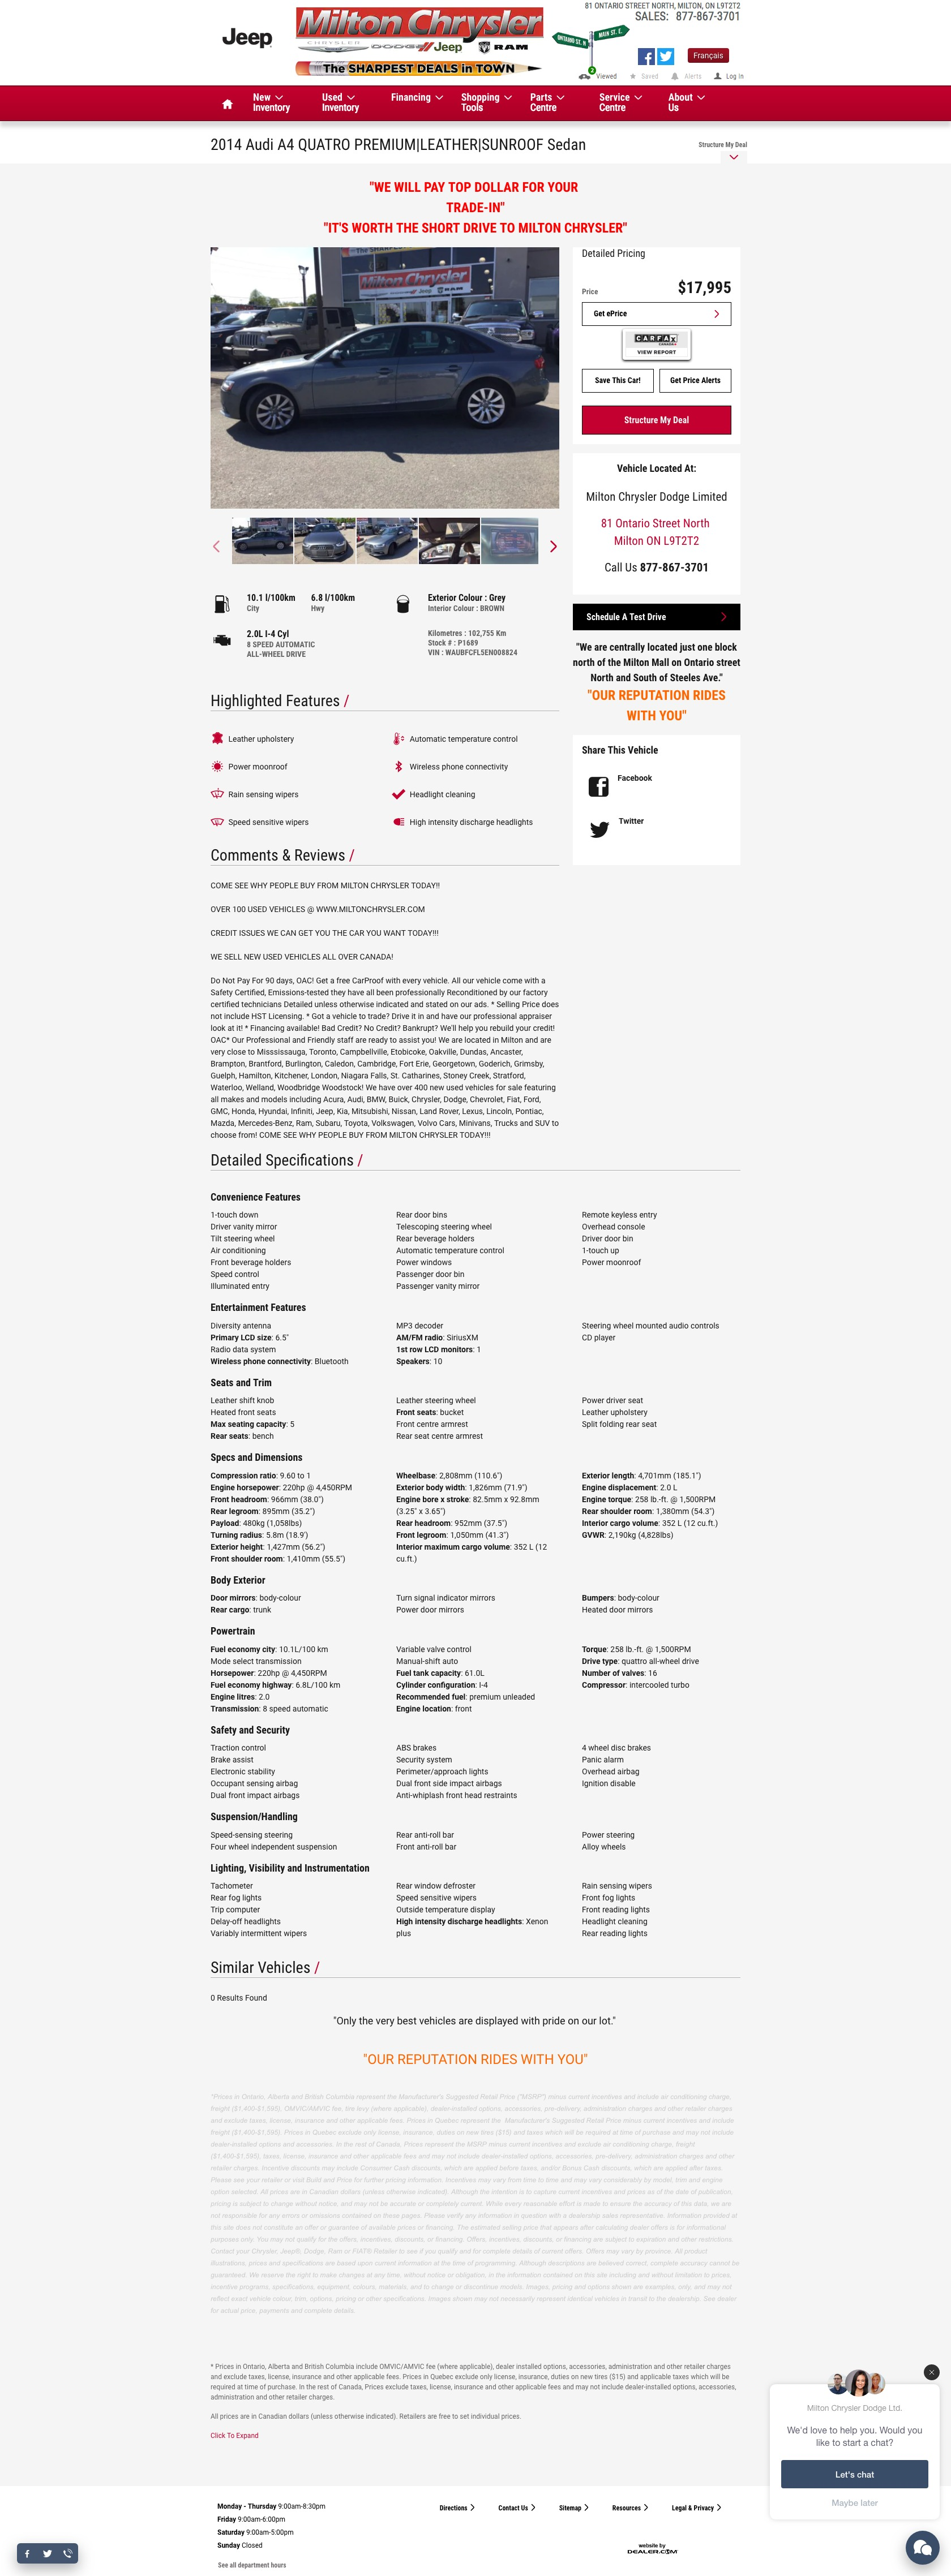car: (550, 540, 557, 554)
